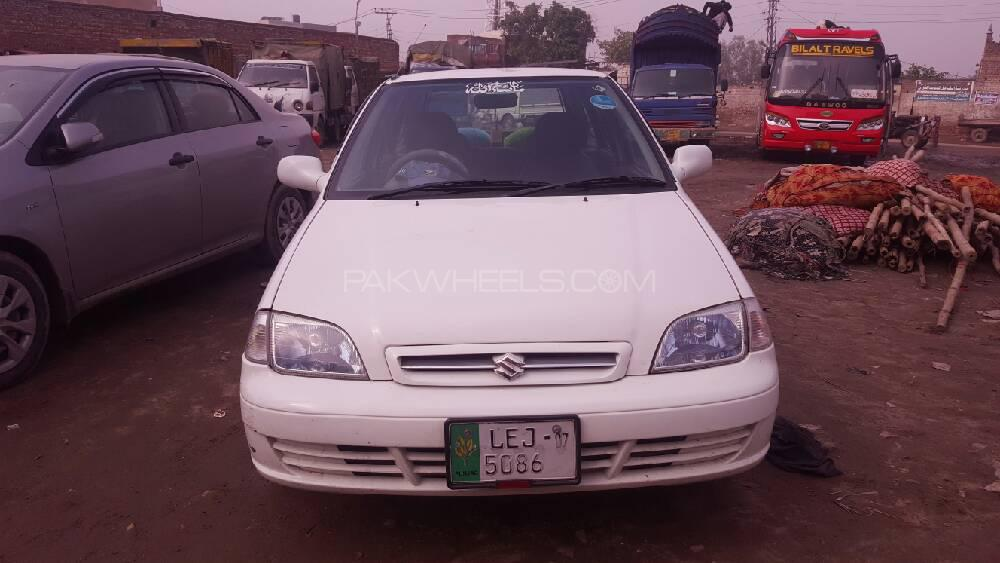plate: (442, 414, 584, 491)
